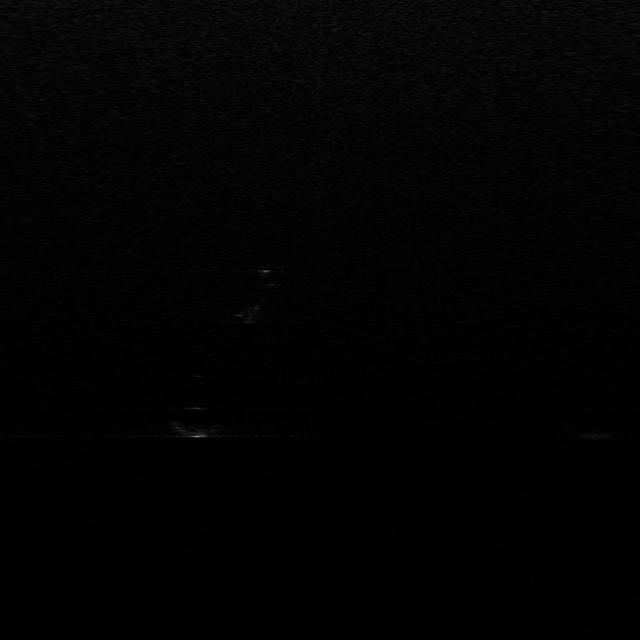ball: (172, 402, 220, 439)
tyre: (234, 259, 282, 324)
